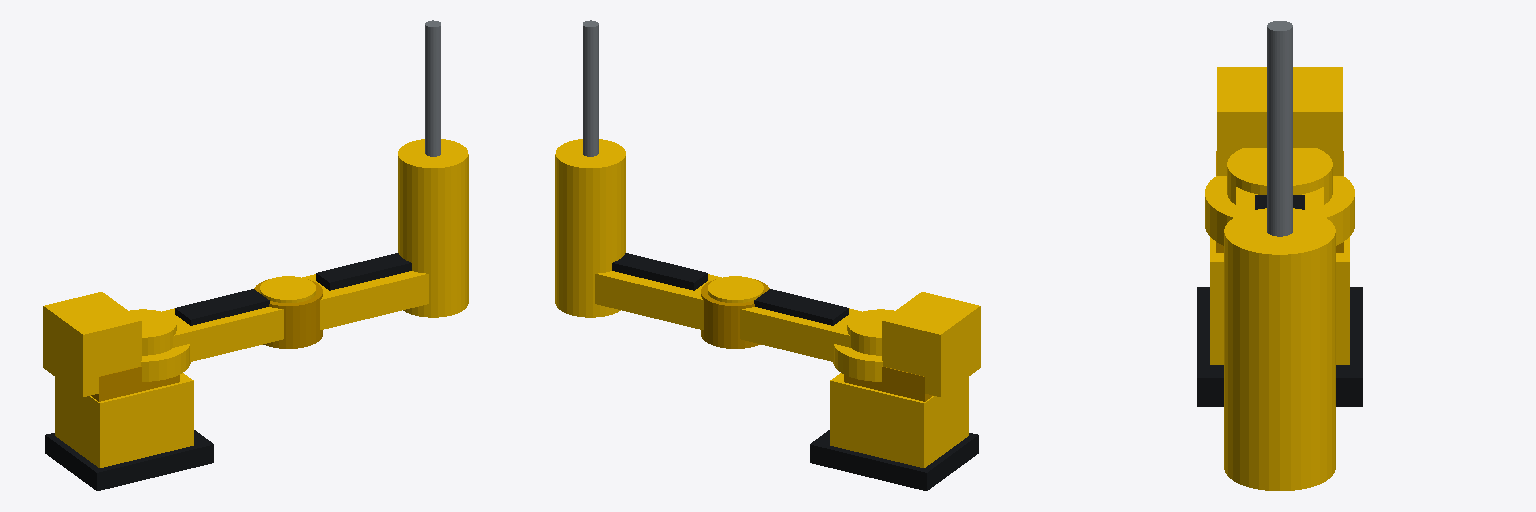
The robot description file, URDF, robot "fanuc_sr12ia_approx":
<?xml version="1.0"?>
<!--
  Mesh-free FANUC SR-12iA fallback.

  The 2R-P-R skeleton follows the published FANUC dimensions and the FANUC
  asset articulation distributed with Isaac Sim:
    * J1 height: 0.336 m
    * J1-J2 and J2-J3: 0.450 m each
    * J3: downward, 0.300 m standard / 0.450 m option

  The compound primitives are deliberately conservative visualization and
  collision proxies. They are not FANUC CAD and must not be used as a
  mechanical fabrication drawing. No process tool is attached to tool0.
-->
<robot name="fanuc_sr12ia_approx">
  <material name="fanuc_yellow"><color rgba="0.96 0.76 0.02 1"/></material>
  <material name="fanuc_yellow_dark"><color rgba="0.78 0.58 0.00 1"/></material>
  <material name="fanuc_dark"><color rgba="0.12 0.13 0.14 1"/></material>
  <material name="metal"><color rgba="0.48 0.50 0.52 1"/></material>

  <link name="world"/>

  <!--
    Current FANUC literature gives a 280 x 364 mm footprint. The J1 axis is
    140 mm from the front and 224 mm from the rear edge, hence x=-42 mm for
    the footprint centre when the zero-pose arms point along +x.
  -->
  <link name="base_link">
    <visual name="base_foot">
      <origin xyz="-0.042 0 0.0275" rpy="0 0 0"/>
      <geometry><box size="0.364 0.280 0.055"/></geometry>
      <material name="fanuc_dark"/>
    </visual>
    <visual name="base_lower_housing">
      <origin xyz="-0.058 0 0.1375" rpy="0 0 0"/>
      <geometry><box size="0.292 0.238 0.220"/></geometry>
      <material name="fanuc_yellow"/>
    </visual>
    <visual name="base_upper_housing">
      <origin xyz="-0.075 0 0.2705" rpy="0 0 0"/>
      <geometry><box size="0.250 0.218 0.102"/></geometry>
      <material name="fanuc_yellow_dark"/>
    </visual>
    <visual name="base_rear_motor_tower">
      <origin xyz="-0.157 0 0.364" rpy="0 0 0"/>
      <geometry><box size="0.182 0.214 0.185"/></geometry>
      <material name="fanuc_yellow"/>
    </visual>
    <visual name="base_shoulder_crown">
      <origin xyz="0 0 0.306" rpy="0 0 0"/>
      <geometry><cylinder radius="0.128" length="0.060"/></geometry>
      <material name="fanuc_yellow"/>
    </visual>

    <!--
      The rear housing overhang visible in the Isaac/FANUC mesh extends beyond
      the mounting footprint. This envelope includes that overhang and 10 mm
      of lateral/top clearance.
    -->
    <collision name="base_conservative_envelope">
      <origin xyz="-0.0541 0 0.23325" rpy="0 0 0"/>
      <geometry><box size="0.4082 0.300 0.4665"/></geometry>
    </collision>
  </link>

  <link name="arm_1">
    <visual name="j1_shoulder_housing">
      <origin xyz="0 0 -0.010" rpy="0 0 0"/>
      <geometry><cylinder radius="0.090" length="0.127"/></geometry>
      <material name="fanuc_yellow"/>
    </visual>
    <visual name="first_arm_body">
      <origin xyz="0.225 0 -0.010" rpy="0 0 0"/>
      <geometry><box size="0.450 0.150 0.090"/></geometry>
      <material name="fanuc_yellow"/>
    </visual>
    <visual name="first_arm_top_cover">
      <origin xyz="0.245 0 0.041" rpy="0 0 0"/>
      <geometry><box size="0.245 0.086 0.025"/></geometry>
      <material name="fanuc_dark"/>
    </visual>
    <visual name="j2_elbow_housing">
      <origin xyz="0.450 0 -0.010" rpy="0 0 0"/>
      <geometry><cylinder radius="0.076" length="0.127"/></geometry>
      <material name="fanuc_yellow"/>
    </visual>

    <collision name="j1_shoulder_clearance">
      <origin xyz="0 0 -0.010" rpy="0 0 0"/>
      <geometry><cylinder radius="0.100" length="0.147"/></geometry>
    </collision>
    <collision name="first_arm_clearance">
      <origin xyz="0.225 0 -0.010" rpy="0 0 0"/>
      <geometry><box size="0.450 0.200 0.147"/></geometry>
    </collision>
    <collision name="j2_elbow_clearance">
      <origin xyz="0.450 0 -0.010" rpy="0 0 0"/>
      <geometry><cylinder radius="0.086" length="0.147"/></geometry>
    </collision>
  </link>

  <link name="arm_2">
    <visual name="j2_rotating_cap">
      <origin xyz="0 0 -0.020" rpy="0 0 0"/>
      <geometry><cylinder radius="0.094" length="0.127"/></geometry>
      <material name="fanuc_yellow_dark"/>
    </visual>
    <visual name="second_arm_body">
      <origin xyz="0.225 0 -0.010" rpy="0 0 0"/>
      <geometry><box size="0.410 0.150 0.090"/></geometry>
      <material name="fanuc_yellow"/>
    </visual>
    <visual name="second_arm_service_cover">
      <origin xyz="0.245 0 0.047" rpy="0 0 0"/>
      <geometry><box size="0.275 0.073 0.024"/></geometry>
      <material name="fanuc_dark"/>
    </visual>
    <visual name="j3_column_housing">
      <origin xyz="0.450 0 0.1265" rpy="0 0 0"/>
      <geometry><cylinder radius="0.095" length="0.443"/></geometry>
      <material name="fanuc_yellow"/>
    </visual>
    <visual name="j3_guide_bushing">
      <origin xyz="0.450 0 -0.062" rpy="0 0 0"/>
      <geometry><cylinder radius="0.065" length="0.034"/></geometry>
      <material name="fanuc_dark"/>
    </visual>

    <collision name="j2_rotating_clearance">
      <origin xyz="0 0 -0.020" rpy="0 0 0"/>
      <geometry><cylinder radius="0.105" length="0.150"/></geometry>
    </collision>
    <collision name="second_arm_clearance">
      <origin xyz="0.225 0 -0.020" rpy="0 0 0"/>
      <geometry><box size="0.450 0.200 0.150"/></geometry>
    </collision>
    <collision name="j3_column_clearance">
      <origin xyz="0.450 0 0.12675" rpy="0 0 0"/>
      <geometry><cylinder radius="0.105" length="0.4635"/></geometry>
    </collision>
  </link>

  <!--
    J3 frame is the moving flange datum; its shaft extends upward from it.
    The fallback uses the longer 450 mm-option shaft as a conservative shape
    for both options. The 300 mm manufacturer mesh is used when available.
  -->
  <link name="vertical_slide">
    <visual name="j3_spindle">
      <origin xyz="0 0 0.366" rpy="0 0 0"/>
      <geometry><cylinder radius="0.022" length="0.732"/></geometry>
      <material name="metal"/>
    </visual>
    <visual name="j3_lower_collar">
      <origin xyz="0 0 0.025" rpy="0 0 0"/>
      <geometry><cylinder radius="0.052" length="0.050"/></geometry>
      <material name="fanuc_dark"/>
    </visual>
    <collision name="j3_spindle_clearance">
      <origin xyz="0 0 0.371" rpy="0 0 0"/>
      <geometry><cylinder radius="0.032" length="0.742"/></geometry>
    </collision>
    <collision name="j3_collar_clearance">
      <origin xyz="0 0 0.025" rpy="0 0 0"/>
      <geometry><cylinder radius="0.066" length="0.060"/></geometry>
    </collision>
  </link>

  <!-- J4 rotates about the J3 spindle and has no translational offset. -->
  <link name="tool_head">
    <visual name="j4_wrist_hub">
      <origin xyz="0 0 -0.012" rpy="0 0 0"/>
      <geometry><cylinder radius="0.067" length="0.038"/></geometry>
      <material name="fanuc_yellow"/>
    </visual>
    <visual name="flange_plate">
      <origin xyz="0 0 -0.034" rpy="0 0 0"/>
      <geometry><cylinder radius="0.052" length="0.012"/></geometry>
      <material name="fanuc_dark"/>
    </visual>
    <collision name="wrist_conservative_envelope">
      <origin xyz="0 0 -0.0175" rpy="0 0 0"/>
      <geometry><cylinder radius="0.082" length="0.055"/></geometry>
    </collision>
  </link>

  <!-- The flange frame is intentionally empty and exactly coincident with J4. -->
  <link name="tool0"/>

  <joint name="base_joint" type="fixed">
    <parent link="world"/>
    <child link="base_link"/>
    <origin xyz="0 0 0" rpy="0 0 0"/>
  </joint>

  <joint name="joint1" type="revolute">
    <parent link="base_link"/>
    <child link="arm_1"/>
    <origin xyz="0 0 0.336" rpy="0 0 0"/>
    <axis xyz="0 0 1"/>
    <limit lower="-2.530727416" upper="2.530727416" effort="1" velocity="7.679448709"/>
  </joint>

  <joint name="joint2" type="revolute">
    <parent link="arm_1"/>
    <child link="arm_2"/>
    <origin xyz="0.450 0 0" rpy="0 0 0"/>
    <axis xyz="0 0 1"/>
    <limit lower="-2.530727416" upper="2.530727416" effort="1" velocity="8.901179186"/>
  </joint>

  <joint name="joint3" type="prismatic">
    <parent link="arm_2"/>
    <child link="vertical_slide"/>
    <origin xyz="0.450 0 0" rpy="0 0 0"/>
    <axis xyz="0 0 -1"/>
    <limit lower="0" upper="0.450" effort="1" velocity="2.8"/>
  </joint>

  <joint name="joint4" type="revolute">
    <parent link="vertical_slide"/>
    <child link="tool_head"/>
    <origin xyz="0 0 0" rpy="0 0 0"/>
    <axis xyz="0 0 1"/>
    <limit lower="-12.566370614" upper="12.566370614" effort="1" velocity="43.633231300"/>
  </joint>

  <joint name="flange-tool0" type="fixed">
    <parent link="tool_head"/>
    <child link="tool0"/>
    <origin xyz="0 0 0" rpy="0 0 0"/>
  </joint>

</robot>

--- Facts derived from the render (not from the file) ---
3 views of the same robot in one strip: view 1: azimuth 30°, elevation 25°; view 2: azimuth 150°, elevation 25°; view 3: azimuth 270°, elevation 25° (orthographic).
Robot: fanuc_sr12ia_approx — 7 links, 6 joints (3 revolute, 1 prismatic, 2 fixed); root link world; default pose: all joints at 0.
Links seen in each view (by area): view 1: base_link, arm_2, arm_1, vertical_slide; view 2: base_link, arm_2, arm_1, vertical_slide; view 3: arm_2, base_link, vertical_slide, arm_1.
Link boxes in pixels (x1,y1,x2,y2): base_link: [43, 292, 213, 490]; arm_2: [254, 139, 468, 348]; arm_1: [129, 276, 315, 361]; vertical_slide: [425, 20, 440, 156]; base_link: [810, 292, 980, 490]; arm_2: [555, 139, 769, 348]; arm_1: [708, 276, 894, 361]; vertical_slide: [583, 20, 598, 156]; arm_2: [1224, 208, 1335, 490]; base_link: [1197, 67, 1362, 406]; vertical_slide: [1267, 21, 1292, 236]; arm_1: [1227, 148, 1332, 215].
Size in the robot's own frame: 1.24 by 0.28 by 1.07 metres.
Geometry: primitives only (box / cylinder / sphere), no mesh files.
